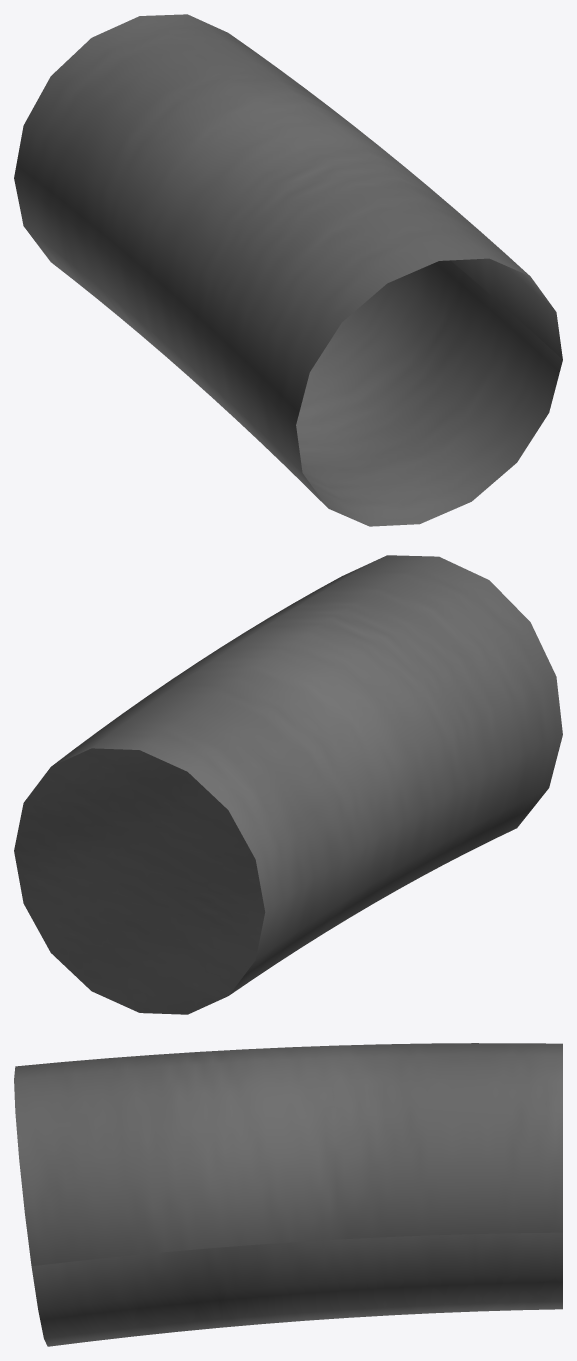
File: mastarmcurve_4x1_c4.obj
3 views of the same model, one above another, from view 1: azimuth 30°, elevation 25°; view 2: azimuth 150°, elevation 25°; view 3: azimuth 270°, elevation 25° (orthographic). The views are drawn at different scales.
Visible parts, largest first — view 1: mastarm_4x1_c4; view 2: mastarm_4x1_c4; view 3: mastarm_4x1_c4.
Part boxes in pixels (x1,y1,x2,y2): mastarm_4x1_c4: (14,14,562,526); mastarm_4x1_c4: (14,555,562,1014); mastarm_4x1_c4: (14,1043,562,1346).
Size of the model in its own units: 0.5312 by 0.5769 by 1.03.
